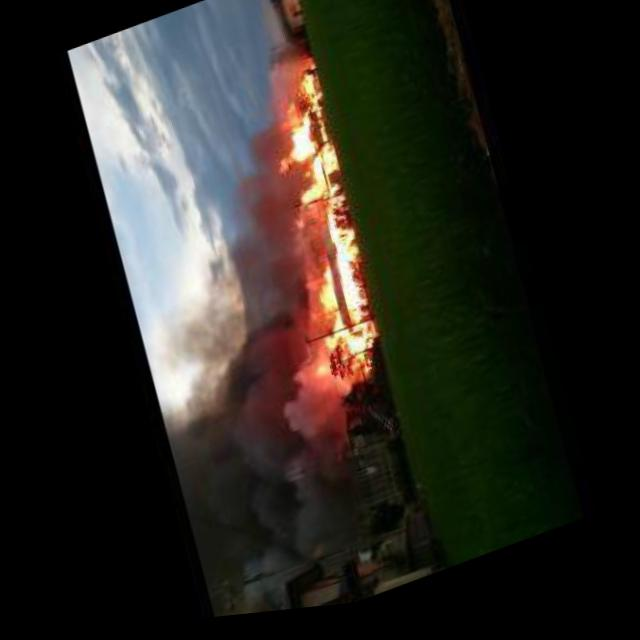Fire: (101, 130, 363, 533), (239, 56, 394, 402)
